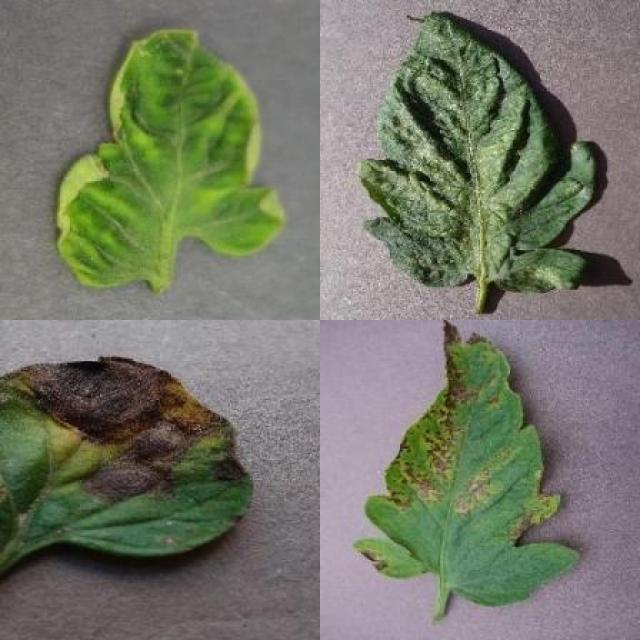Early Blight: (0, 358, 253, 556)
Septoria: (358, 320, 586, 607)
Spider Mites: (360, 12, 596, 292)
Yellow Leaf Curl Virus: (54, 26, 286, 287)
